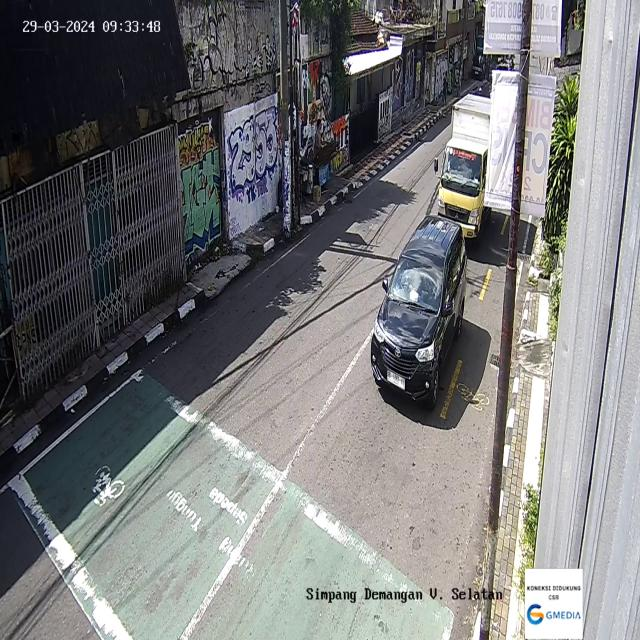car: (370, 214, 468, 411)
truck: (434, 94, 492, 244)
